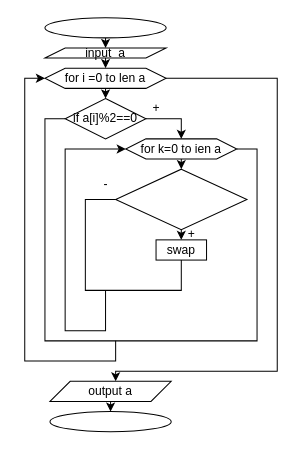
This 303x449 diagram has some shape labels left out. Here are the shapes that lost their labels. From the top down, the box of each, then its label:
(44, 17, 166, 38): begin
(115, 168, 247, 230): if a[k]>a[i] and a[k]%2==0
(49, 411, 171, 432): end
